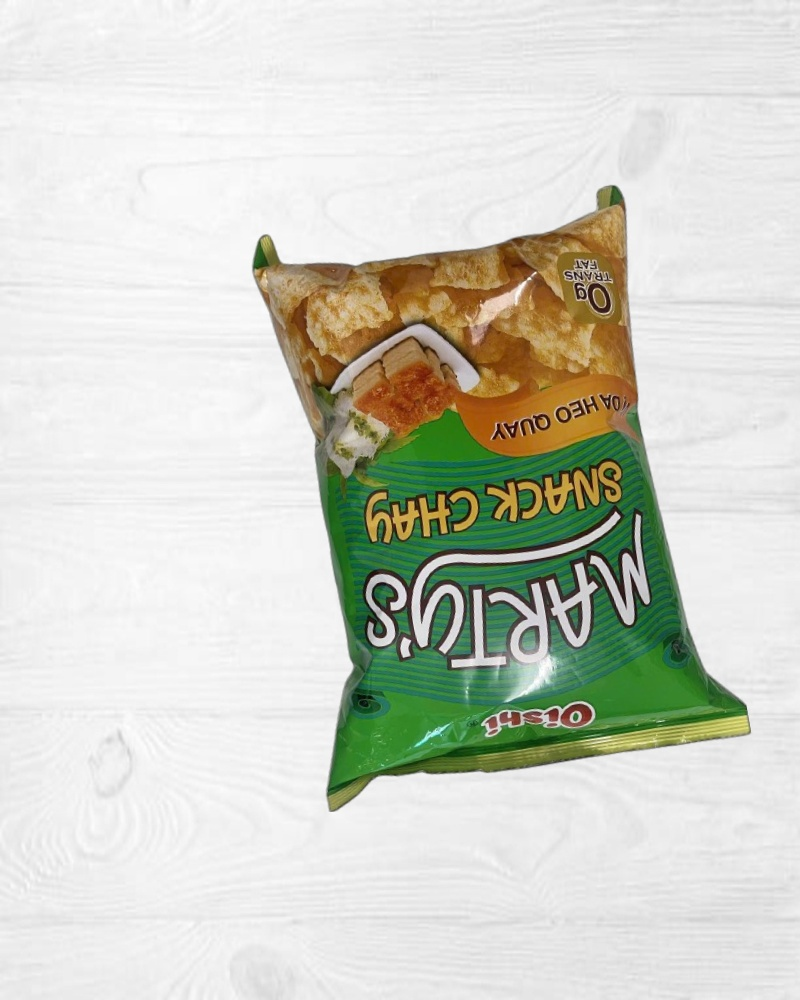Snack chay: (250, 169, 751, 809)
